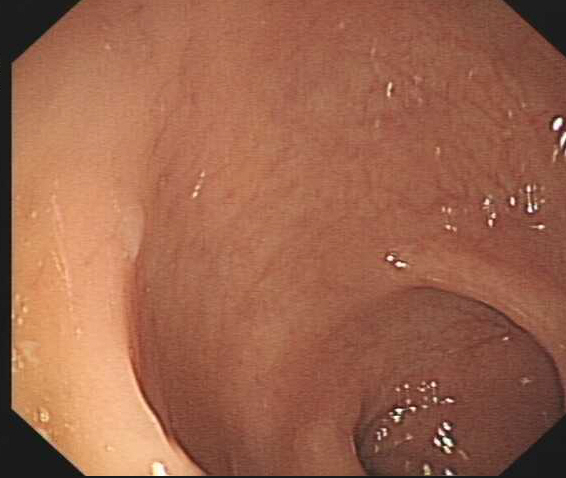others: (118, 201, 148, 262)
